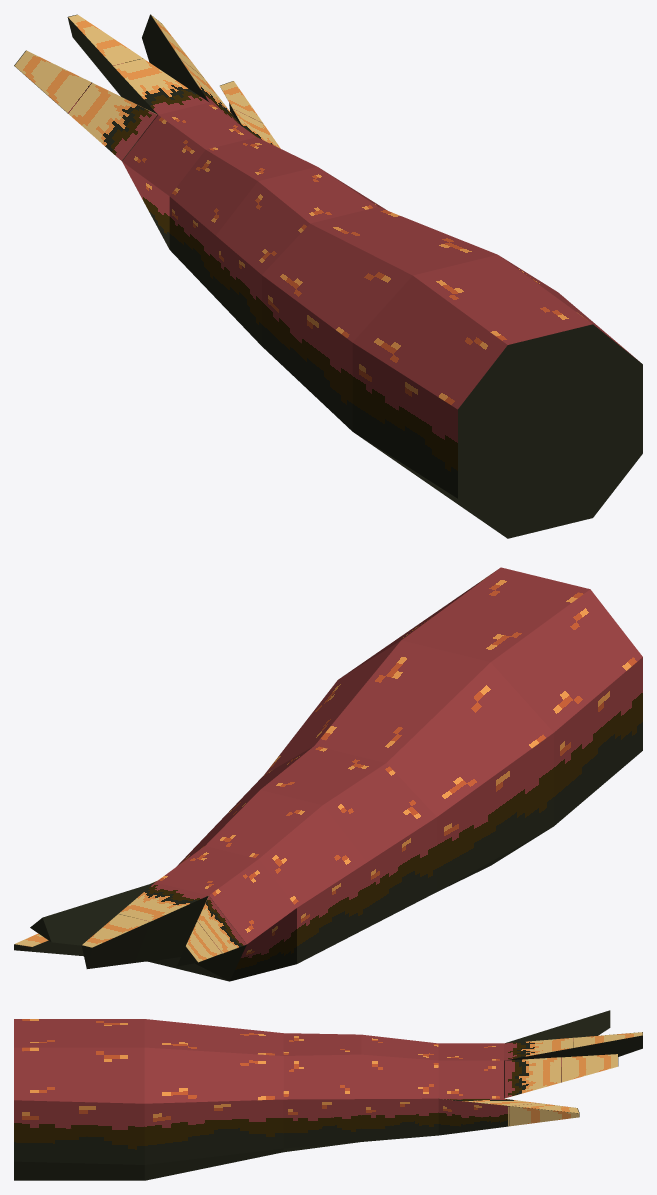
The model's file is weapon_model.fbx.
3 views of the same model, one above another, from view 1: azimuth 30°, elevation 25°; view 2: azimuth 150°, elevation 25°; view 3: azimuth 270°, elevation 25° (orthographic). The views are drawn at different scales.
Visible parts, largest first — view 1: base_arm; view 2: base_arm; view 3: base_arm.
Boxes of the visible parts, x1=… form: base_arm: x1=14, y1=14, x2=642, y2=538; base_arm: x1=14, y1=567, x2=642, y2=981; base_arm: x1=14, y1=1010, x2=642, y2=1180.
Bounding box in the file's own units: 31.25 × 28.12 × 120.
1 material, 1 textured.
